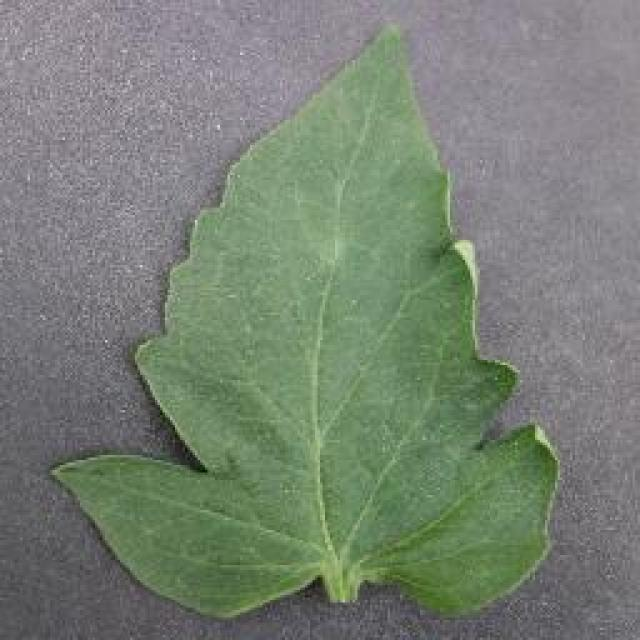Tomato healthy leaf: (51, 26, 564, 624)
